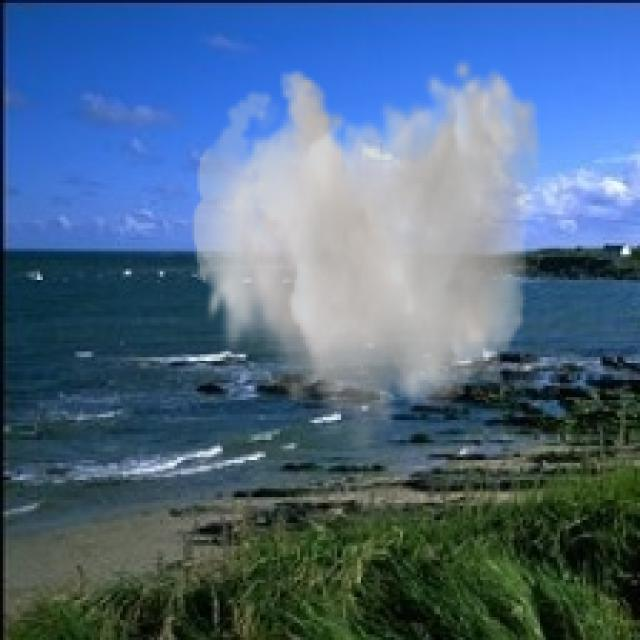Smoke: (191, 54, 543, 460)
